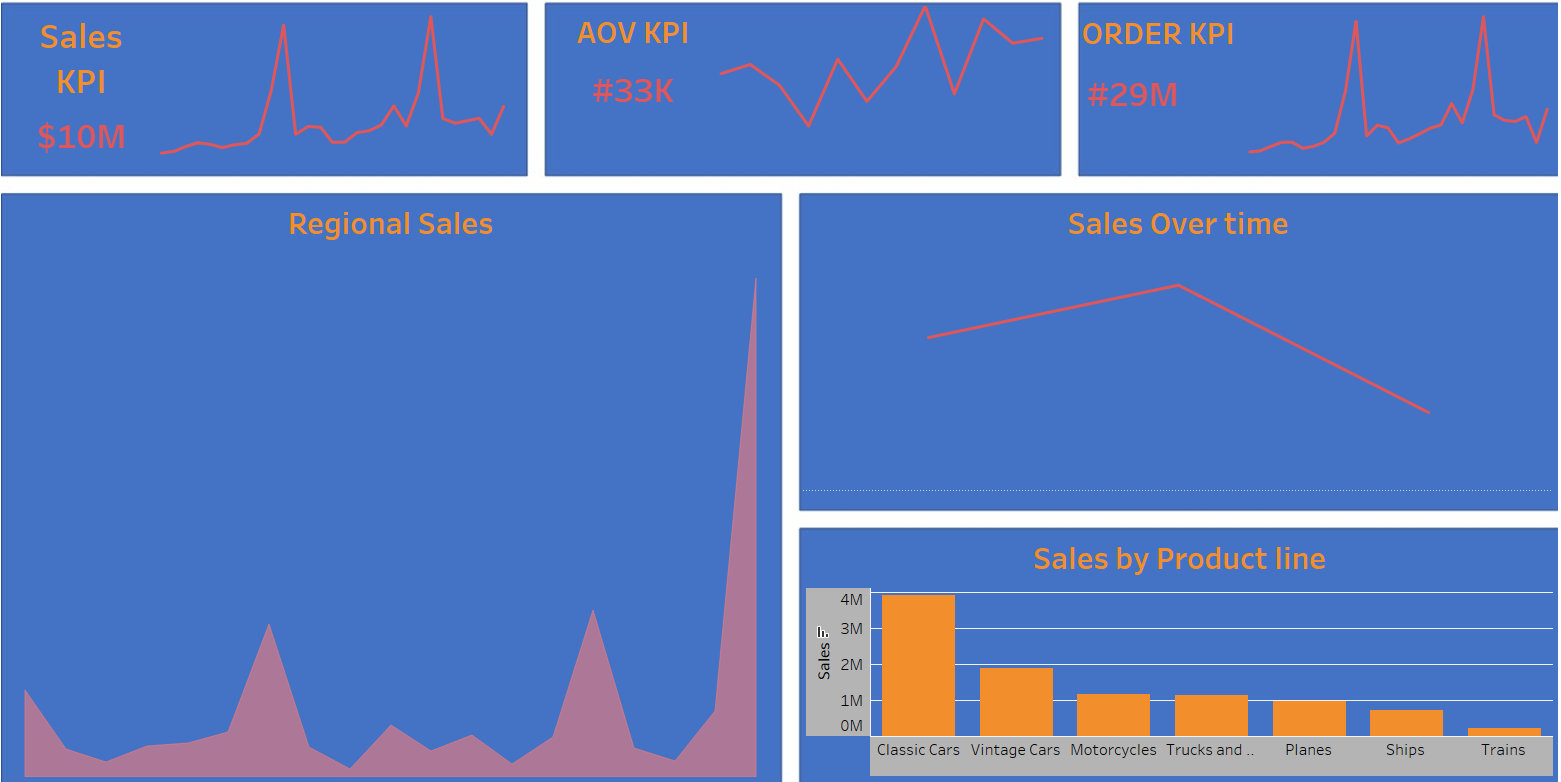

What the dashboard file says about the page in this screenshot:
{"tool":"tableau","page":{"name":"Dashboard 1","canvas":[1600,900],"ordinal":0},"visuals":[{"type":"image","param":"C:/Users/HP/Downloads/Sales Dashboard Background (1).jpg","box":[8,8,1584,884]},{"type":"text","box":[31,23,343,55]},{"type":"worksheet","title":"AOV KPI","mark":"Text","rows":["Calculation_1125899974384631808"],"box":[565,108,176,173]},{"type":"worksheet","title":"AOV LINE","mark":"Line","rows":["Calculation_1125899974384631808"],"cols":["MONTH_ID"],"box":[722,108,358,174]},{"type":"worksheet","title":"Sales line","mark":"Line","rows":["SALES"],"cols":["ORDERDATE"],"box":[158,109,388,172]},{"type":"worksheet","title":"Order line","mark":"Line","rows":["ORDERNUMBER"],"cols":["MONTH"],"box":[1260,109,316,172]},{"type":"worksheet","title":"Sales KPI","mark":"Automatic","box":[51,114,155,161]},{"type":"text","box":[1098,117,161,41]},{"type":"worksheet","title":"ORDER KPI","mark":"Automatic","box":[1099,173,168,53]},{"type":"worksheet","title":"Regional Sales","mark":"Area","rows":["SALES"],"cols":["COUNTRY"],"box":[21,299,779,588]},{"type":"worksheet","title":"Sales Over time","mark":"Automatic","rows":["SALES"],"cols":["ORDERDATE"],"box":[819,299,758,317]},{"type":"worksheet","title":"Sales by Product line","mark":"Automatic","rows":["SALES"],"cols":["PRODUCTLINE"],"box":[822,634,755,252]}]}

Visuals, with their boxes on the page's 1600x900 design canvas (x1, y1, x2, y2). These are canvas units, not pixel positions in the 1561x782 screenshot, which may show the page scaled, cropped or inside an application window:
image: l=8, t=8, r=1592, b=892
text: l=31, t=23, r=374, b=78
"AOV KPI" worksheet (Text marks): l=565, t=108, r=741, b=281
"AOV LINE" worksheet (Line marks): l=722, t=108, r=1080, b=282
"Sales line" worksheet (Line marks): l=158, t=109, r=546, b=281
"Order line" worksheet (Line marks): l=1260, t=109, r=1576, b=281
"Sales KPI" worksheet: l=51, t=114, r=206, b=275
text: l=1098, t=117, r=1259, b=158
"ORDER KPI" worksheet: l=1099, t=173, r=1267, b=226
"Regional Sales" worksheet (Area marks): l=21, t=299, r=800, b=887
"Sales Over time" worksheet: l=819, t=299, r=1577, b=616
"Sales by Product line" worksheet: l=822, t=634, r=1577, b=886
